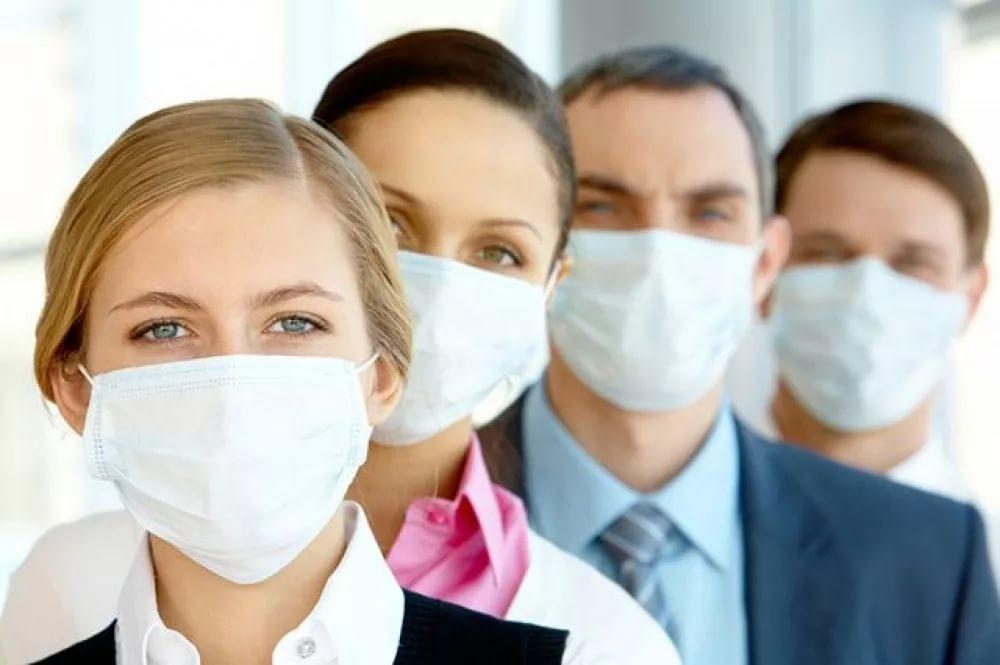mask: (83, 209, 377, 571), (354, 108, 558, 482), (562, 85, 765, 402), (774, 139, 979, 431)
